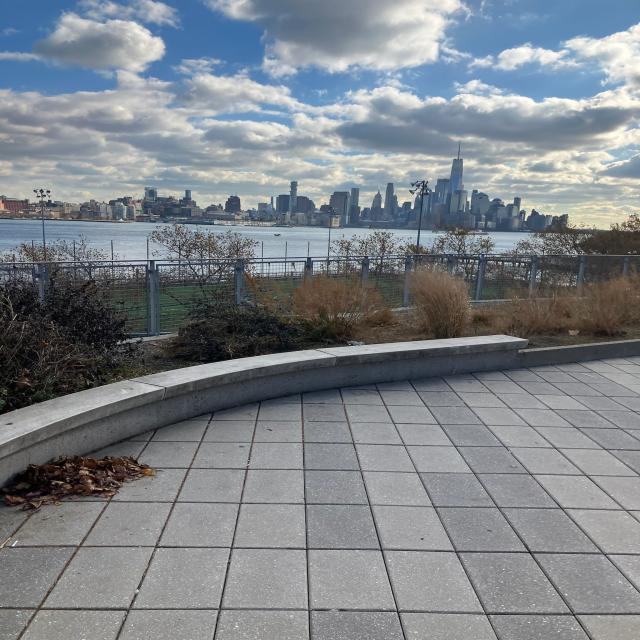WTC: (449, 140, 465, 190)
